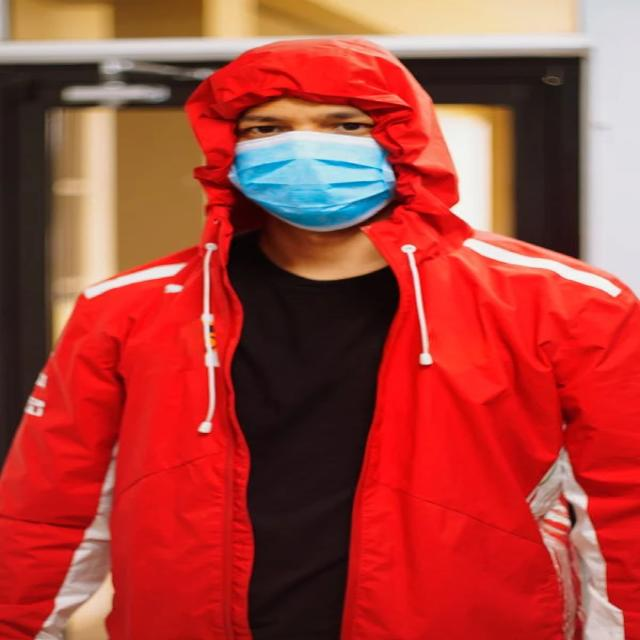mask: (70, 68, 498, 246)
